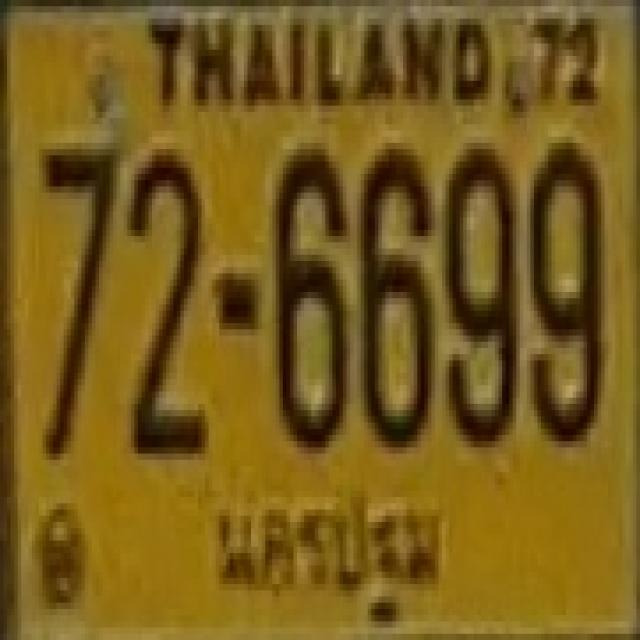2: (125, 146, 200, 451)
6: (272, 143, 343, 441), (357, 143, 428, 441)
7: (41, 143, 115, 454)
9: (440, 143, 515, 441), (529, 137, 599, 435)
NPT: (202, 476, 451, 625)
